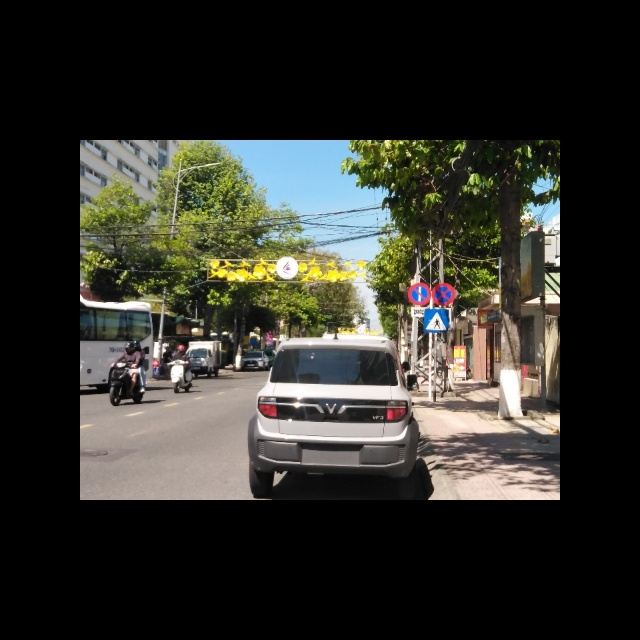Cấm dừng xe và đỗ xe: (432, 283, 455, 306)
Cấm đỗ xe ngày lẻ: (408, 282, 433, 306)
Đường dành cho người đi bộ: (423, 307, 450, 333)
